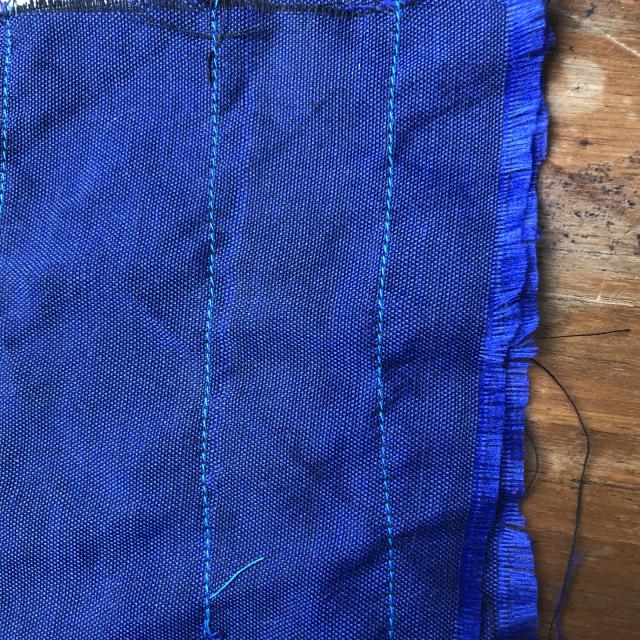good: (368, 172, 407, 270)
